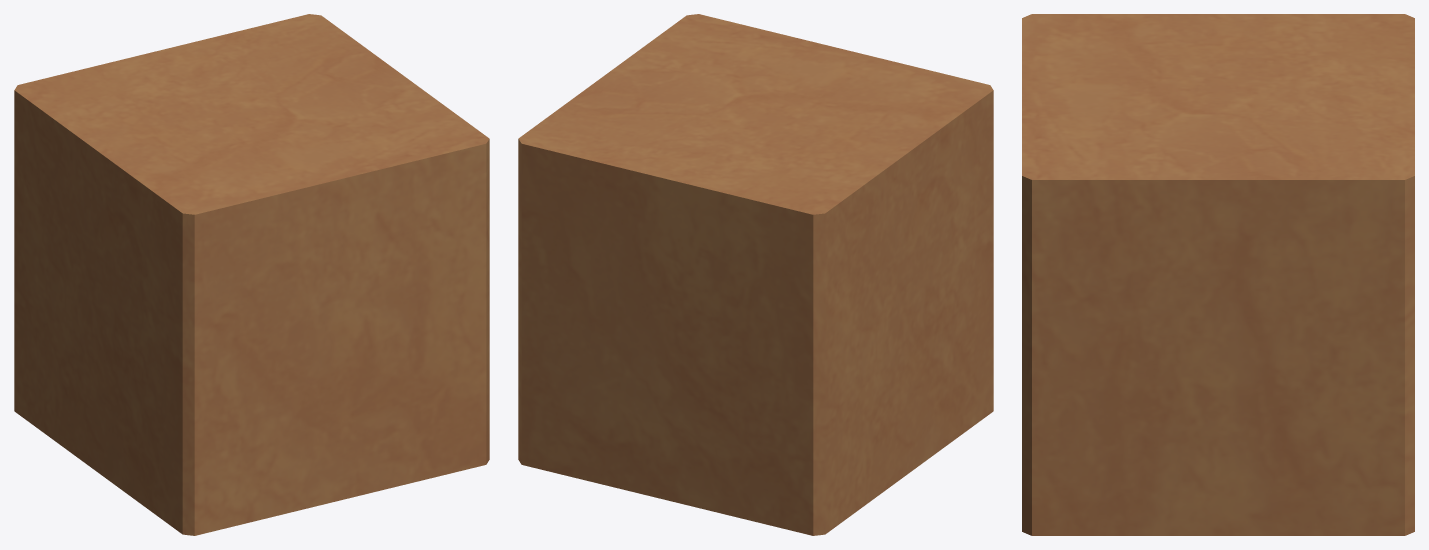
File: terrain_0.fbx
3 renders of one model, left to right at view 1: azimuth 30°, elevation 25°; view 2: azimuth 150°, elevation 25°; view 3: azimuth 270°, elevation 25°, orthographic. The views are drawn at different scales.
Parts seen in each view (by area): view 1: 立方体; view 2: 立方体; view 3: 立方体.
Part boxes in pixels (x1,y1,x2,y2): 立方体: (14,14,489,535); 立方体: (518,14,993,535); 立方体: (1022,14,1414,535).
Size of the model in its own units: 200 by 200 by 200.
1 material, 1 textured.
